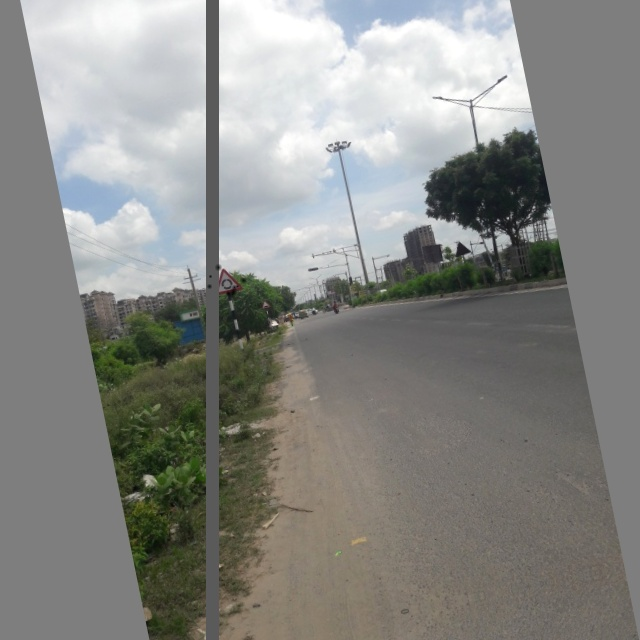Round_About: (207, 261, 247, 300)
